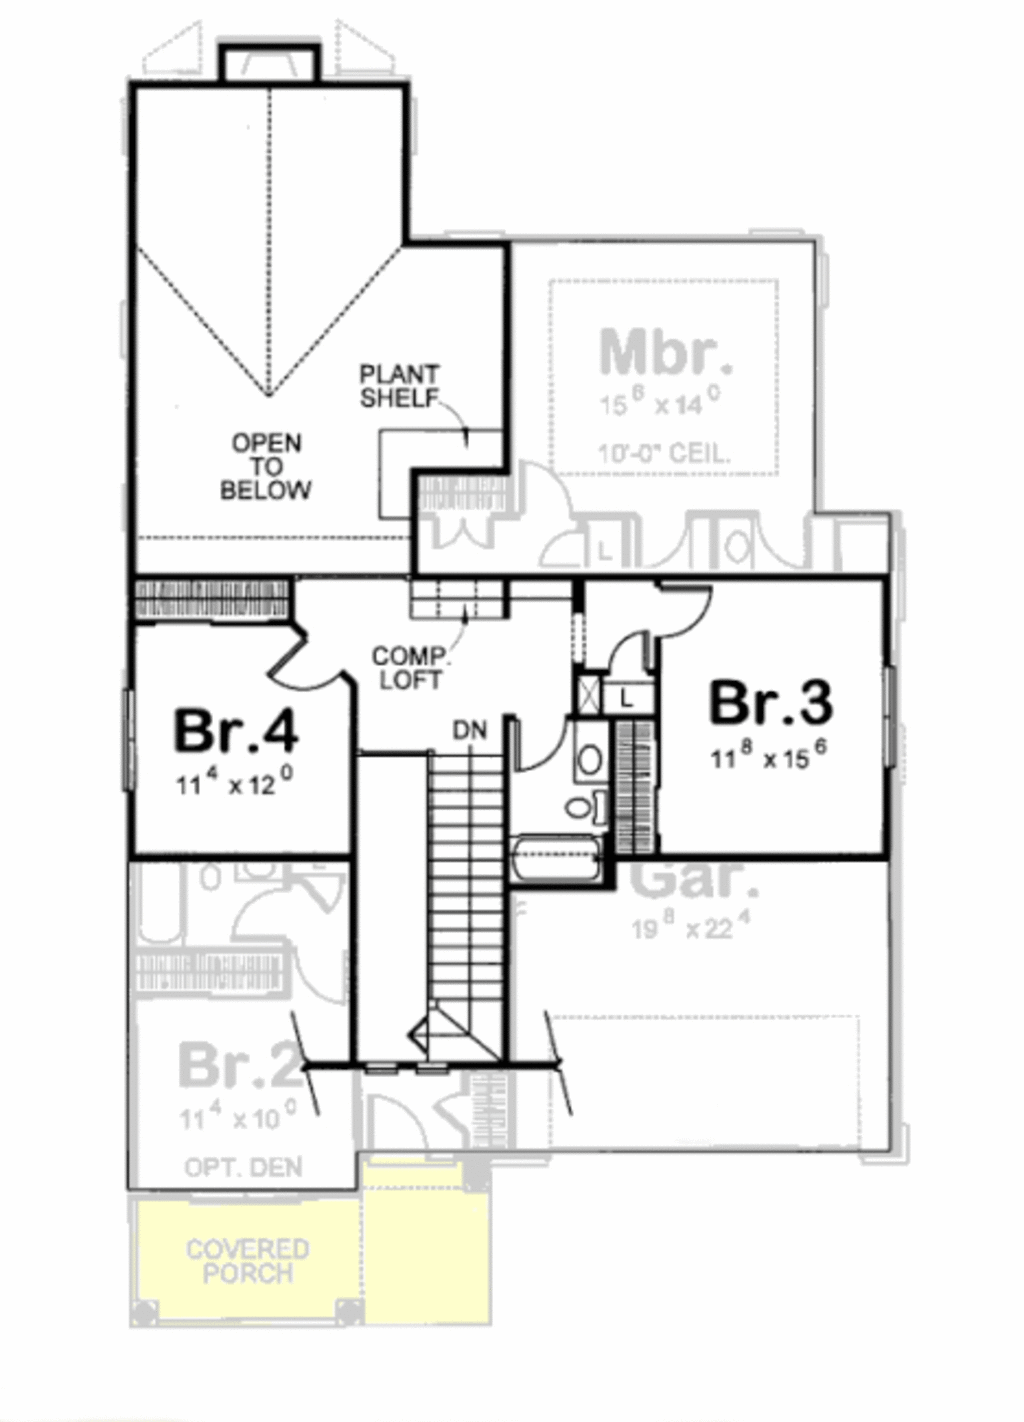door: (256, 620, 356, 696), (602, 620, 676, 691), (652, 576, 721, 640), (498, 711, 569, 771)
large_sink: (552, 785, 636, 829)
small_sink: (569, 720, 629, 787)
stairs: (367, 749, 514, 1063)
tub: (512, 820, 614, 891)
window: (122, 683, 156, 794), (881, 667, 902, 787)
